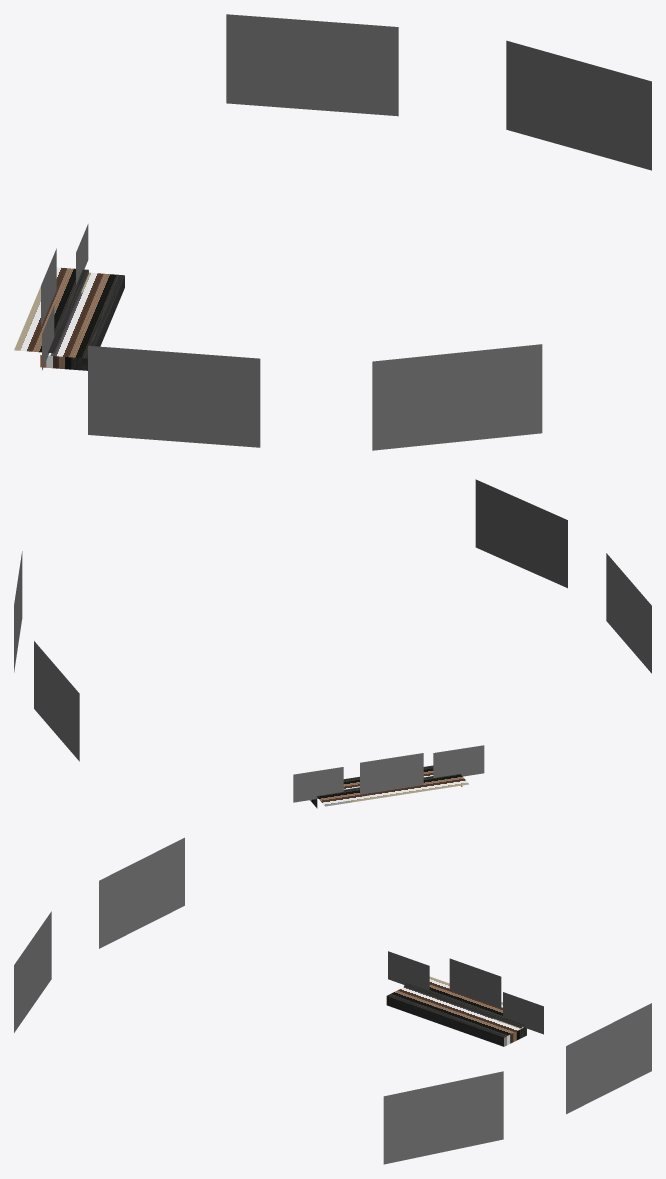
File: FestivalStage.fbx
3 renders of one model, top to bottom at view 1: azimuth 30°, elevation 25°; view 2: azimuth 150°, elevation 25°; view 3: azimuth 270°, elevation 25°, orthographic. The views are drawn at different scales.
Parts seen in each view (by area): view 1: Screens, SM_Stage_Skirt_4; view 2: Screens, SM_Stage_Skirt_4; view 3: Screens, SM_Stage_Skirt_4.
Part boxes in pixels (<box>): Screens: <box>41,14,651,450</box>; SM_Stage_Skirt_4: <box>14,267,124,370</box>; Screens: <box>14,479,651,802</box>; SM_Stage_Skirt_4: <box>310,765,468,808</box>; Screens: <box>14,837,651,1164</box>; SM_Stage_Skirt_4: <box>386,976,526,1046</box>.
Bounding box in the file's own units: 86.01 × 18.27 × 89.54.
